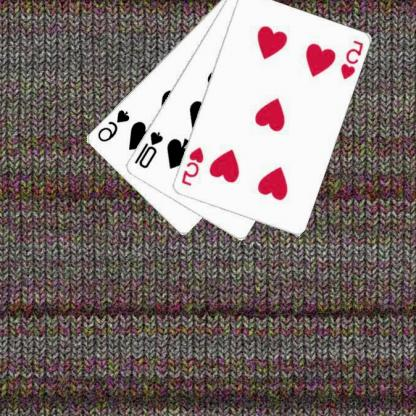10S: (133, 129, 166, 170)
5H: (339, 38, 366, 81), (180, 145, 206, 188)
9S: (96, 107, 133, 143)
